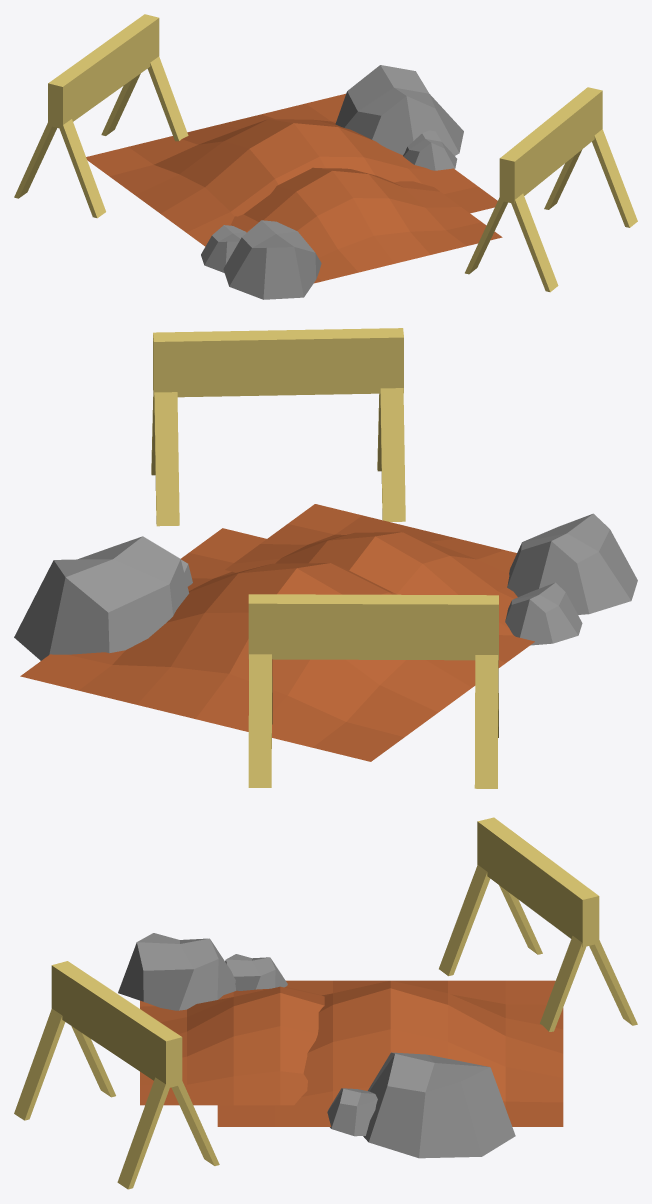
Rendered from Terrain.fbx.
3 renders of one model, top to bottom at view 1: azimuth 30°, elevation 25°; view 2: azimuth 150°, elevation 25°; view 3: azimuth 270°, elevation 25°, orthographic. The views are drawn at different scales.
Visible parts, largest first — view 1: Cube.026; view 2: Cube.026; view 3: Cube.026.
Boxes of the visible parts, left/top/right/bottom form: Cube.026: left=14, top=14, right=637, bottom=299; Cube.026: left=14, top=328, right=637, bottom=788; Cube.026: left=14, top=817, right=637, bottom=1189.
Bounding box in the file's own units: 1694 × 449 × 1838.
